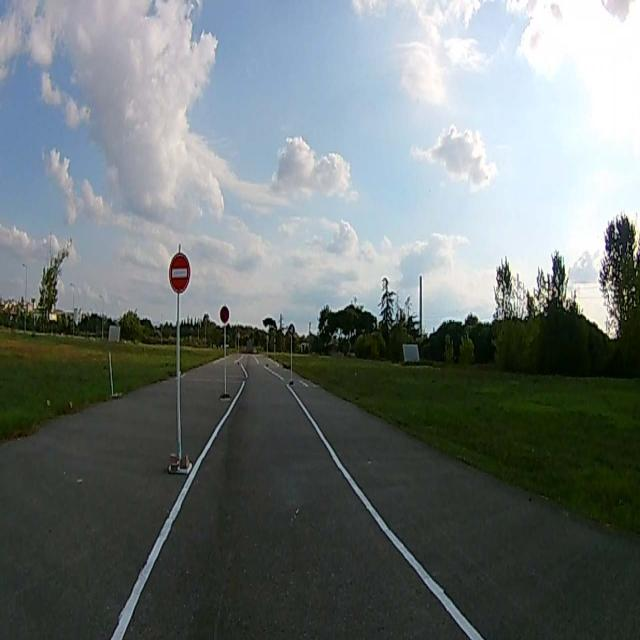girisyok: (167, 252, 190, 294)
